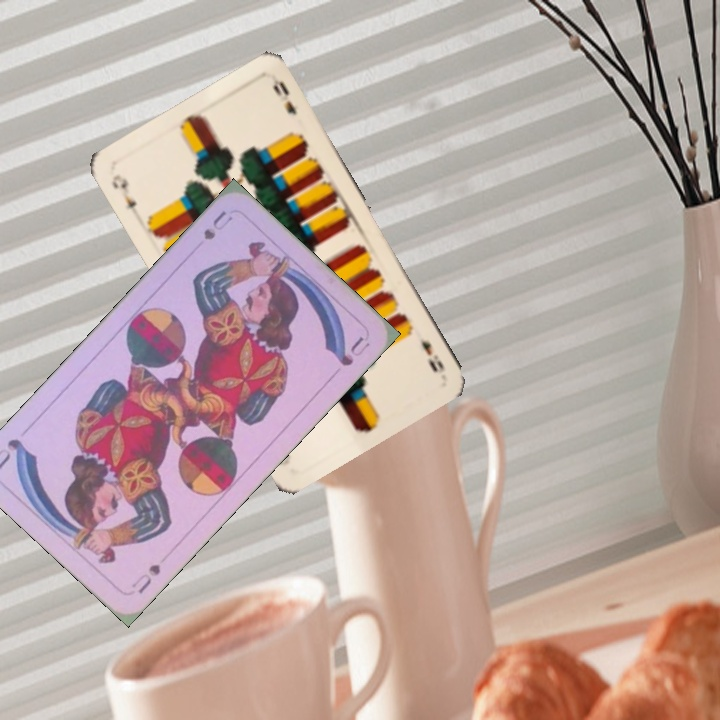E9: (107, 170, 139, 212), (416, 336, 448, 375)
SU: (127, 560, 164, 597), (199, 206, 235, 243)
